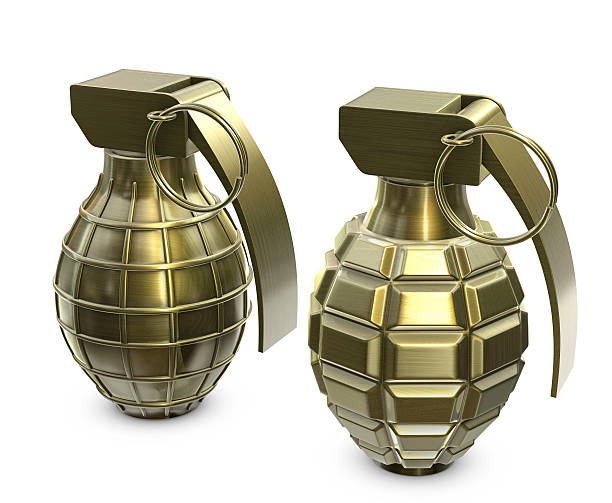e1: (307, 86, 581, 480), (50, 70, 298, 423)
